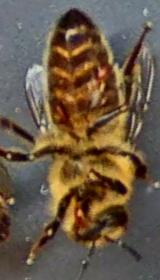varroa_mite: (44, 86, 76, 133), (84, 54, 122, 90)
